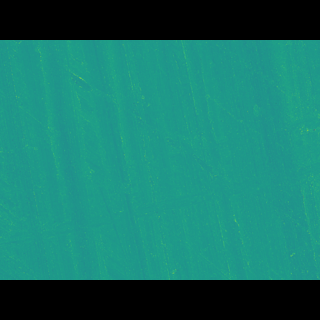Loch: (0, 158, 320, 231), (80, 69, 153, 249)
